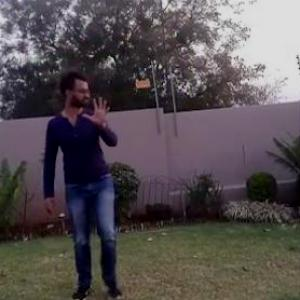follow_hand: (82, 93, 112, 127)
